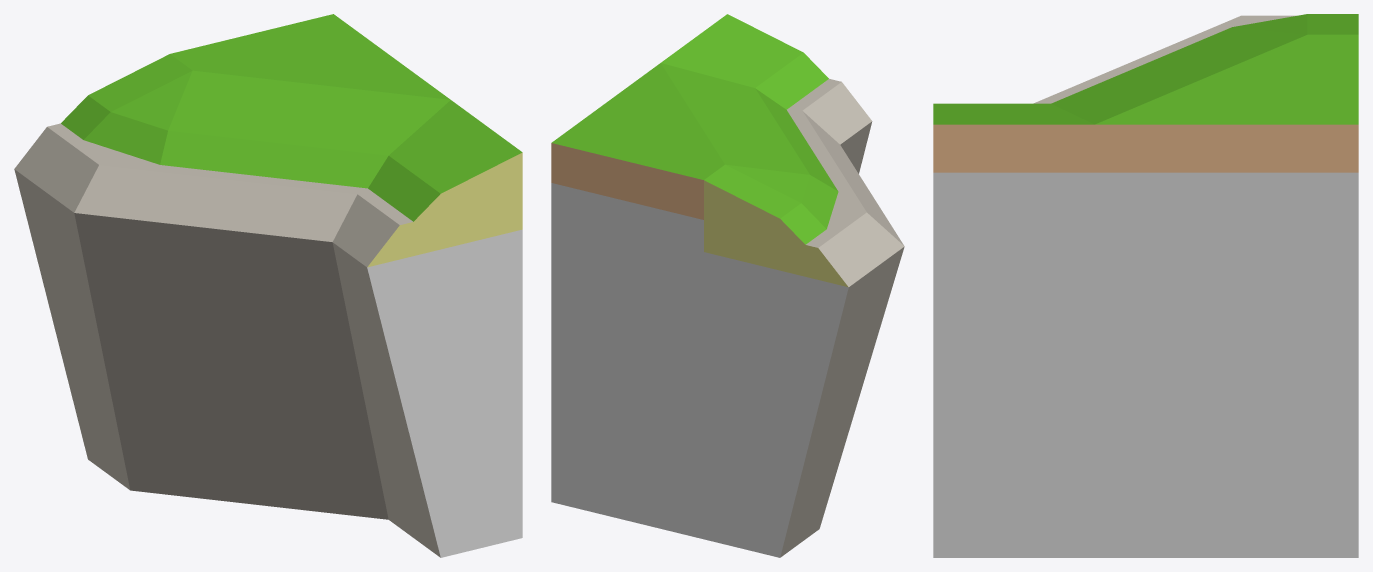
The model's file is Basic_Esse_Top_2x2.glb.
3 renders of one model, left to right at view 1: azimuth 30°, elevation 25°; view 2: azimuth 150°, elevation 25°; view 3: azimuth 270°, elevation 25°, orthographic. The views are drawn at different scales.
Visible parts, largest first — view 1: Basic_Esse_Top_2x2; view 2: Basic_Esse_Top_2x2; view 3: Basic_Esse_Top_2x2.
Part boxes in pixels (left/top/right/bottom): Basic_Esse_Top_2x2: left=14, top=14, right=522, bottom=557; Basic_Esse_Top_2x2: left=551, top=14, right=904, bottom=557; Basic_Esse_Top_2x2: left=933, top=14, right=1358, bottom=557.
Size of the model in its own units: 195 by 225 by 200.
